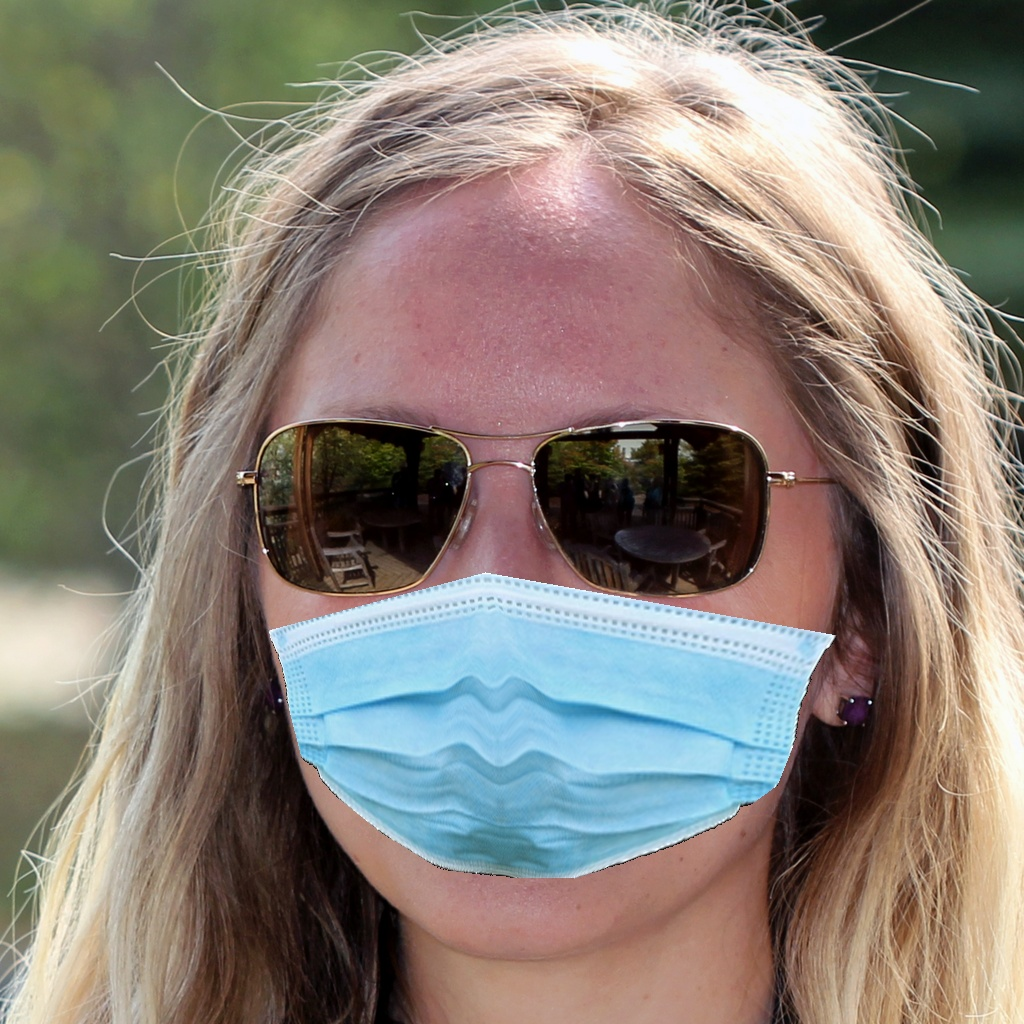mask_weared_incorrect: (224, 361, 857, 943)
